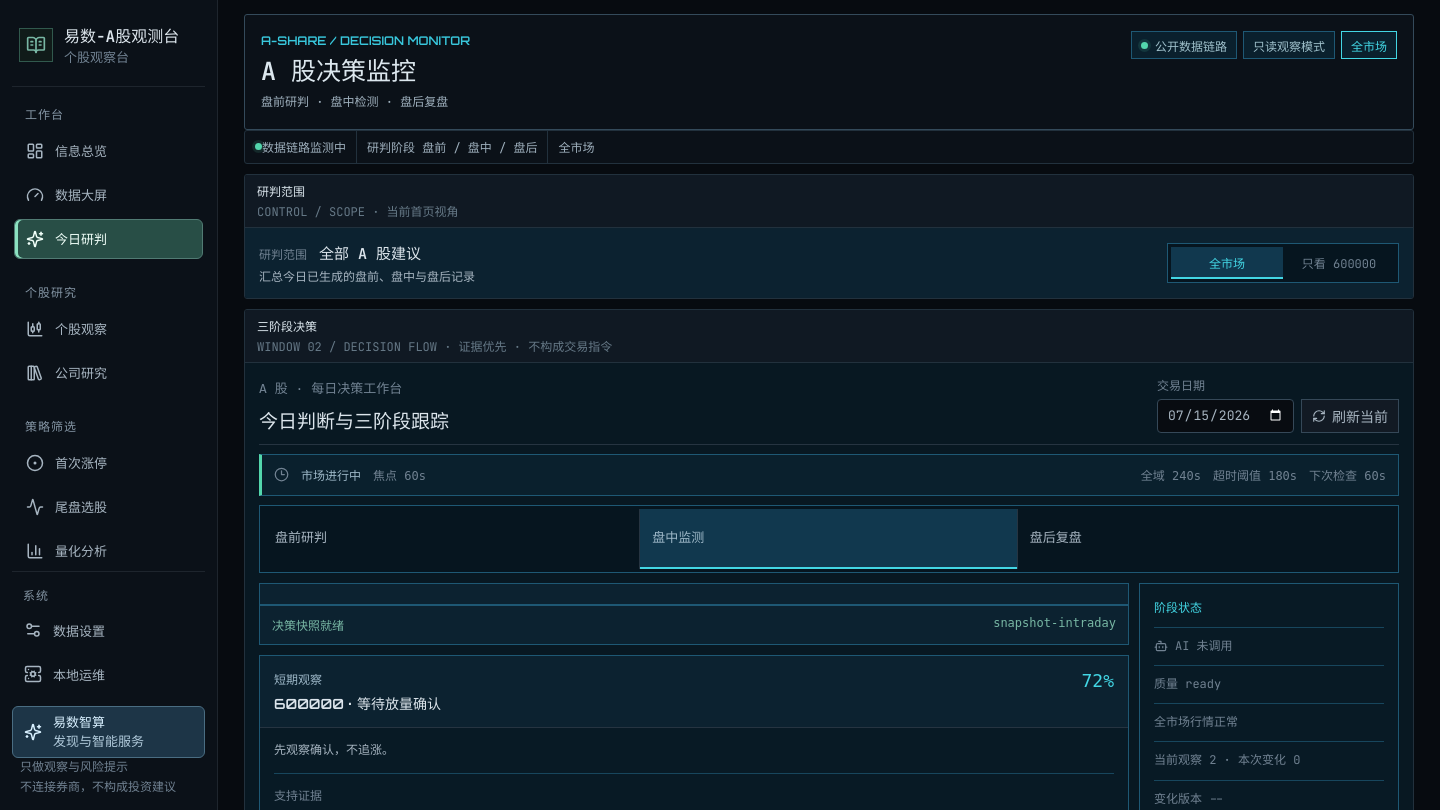
Test: Dashboard beginner shell › filters 今日研判 only after the user explicitly chooses the selected A share
Click the button "只看 600000": x=1339, y=263 [1283,247,1395,279]
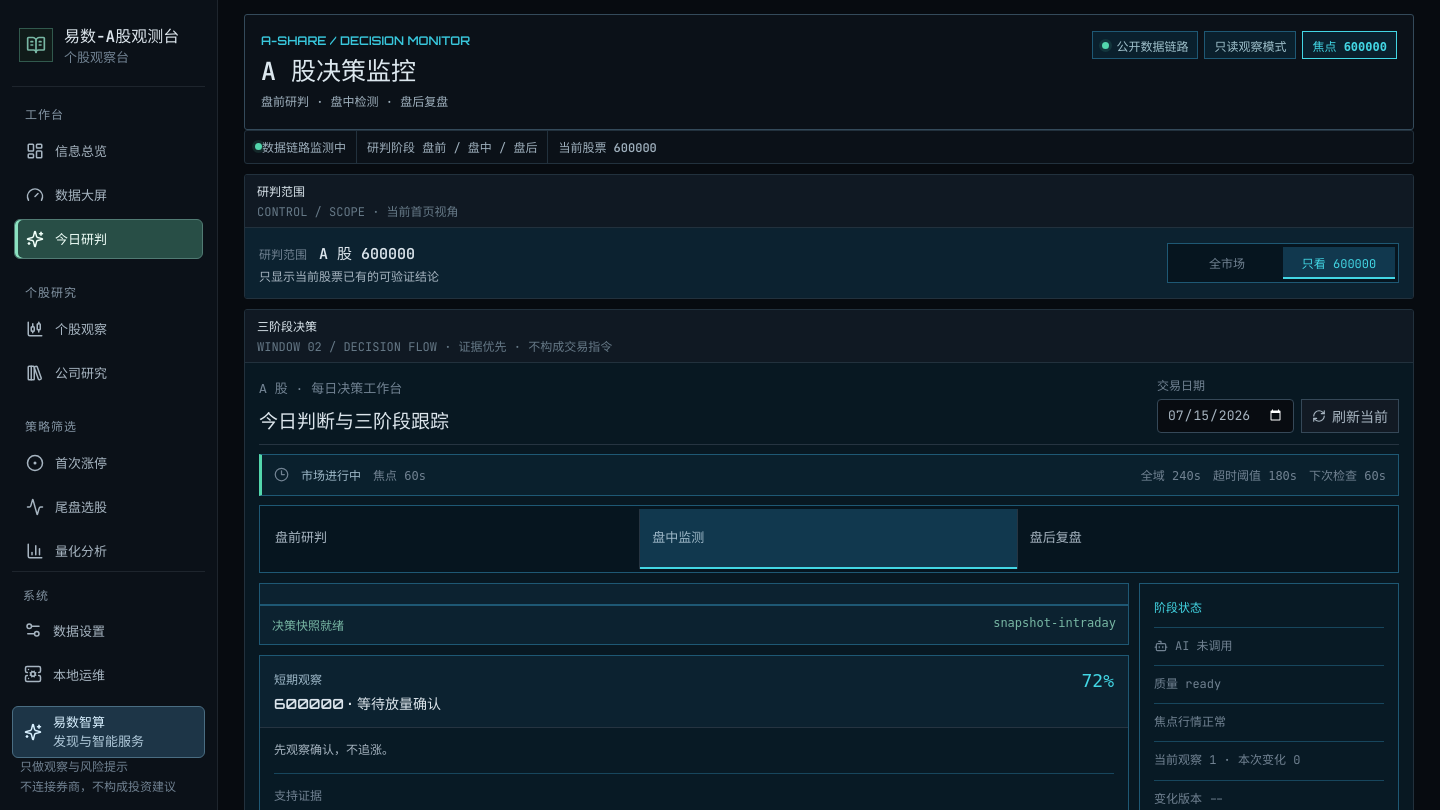
Check: the heading "600000 · 等待放量确认" is shown, box [274,693,441,713]
Check: the text "000001 · 趋势仍需观察" is not shown
Click the button "全市场": x=1227, y=263 [1171,247,1283,279]
(page scrolled)
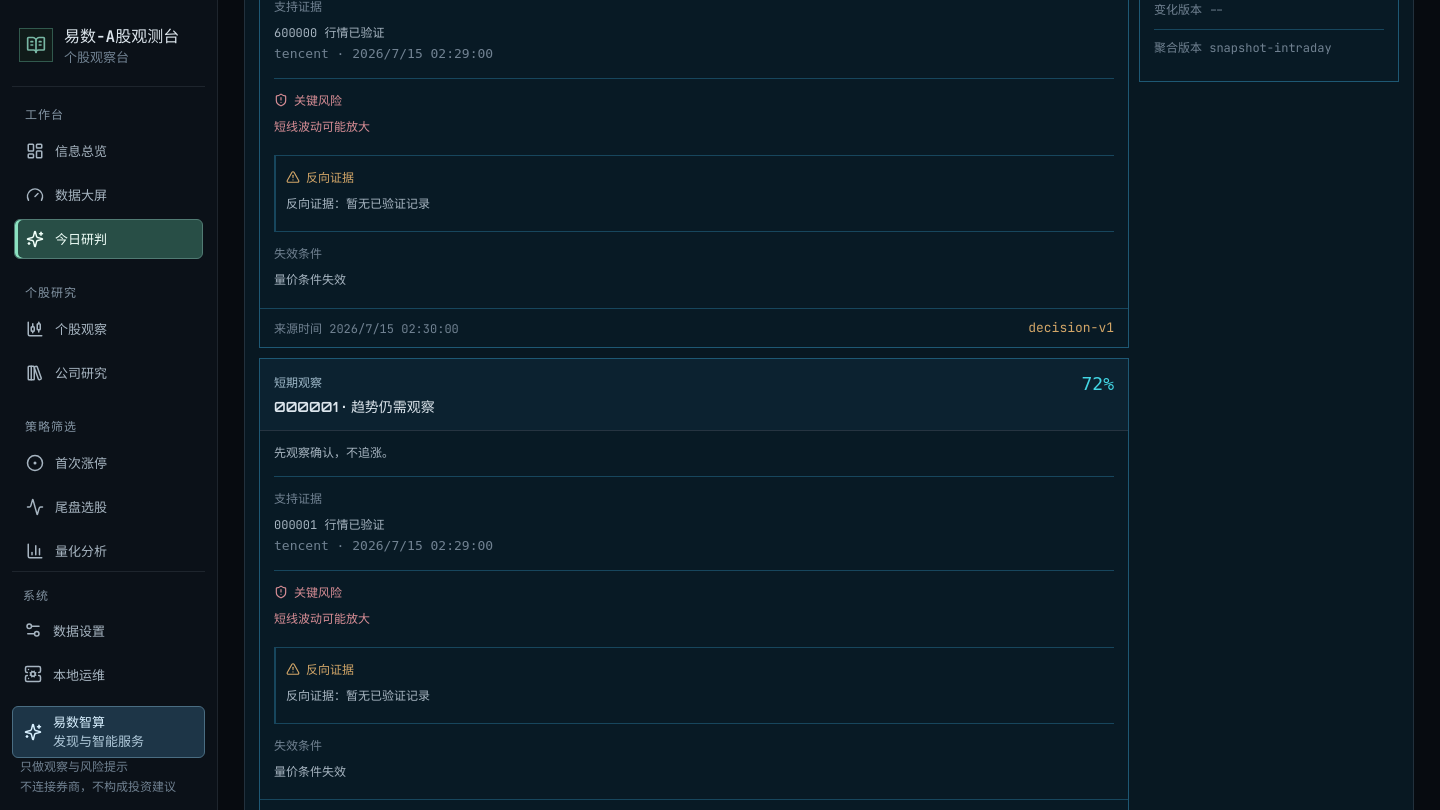
Check: the heading "000001 · 趋势仍需观察" is shown, box [274,396,435,416]
